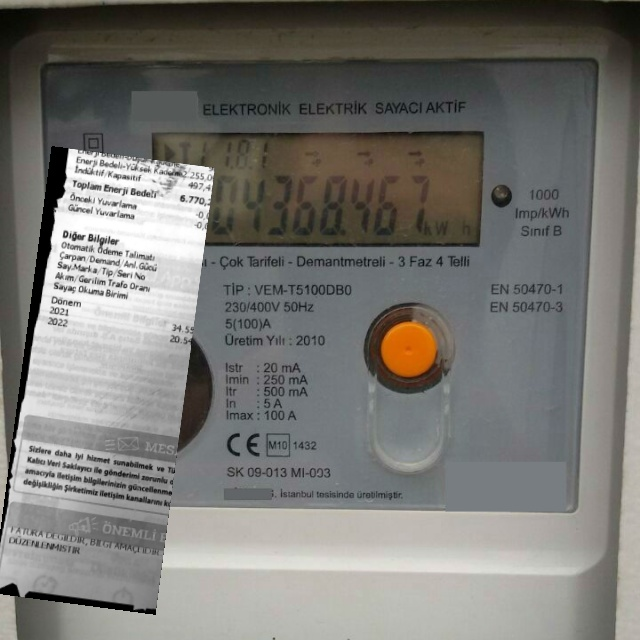electricity-bill: (0, 146, 214, 614)
